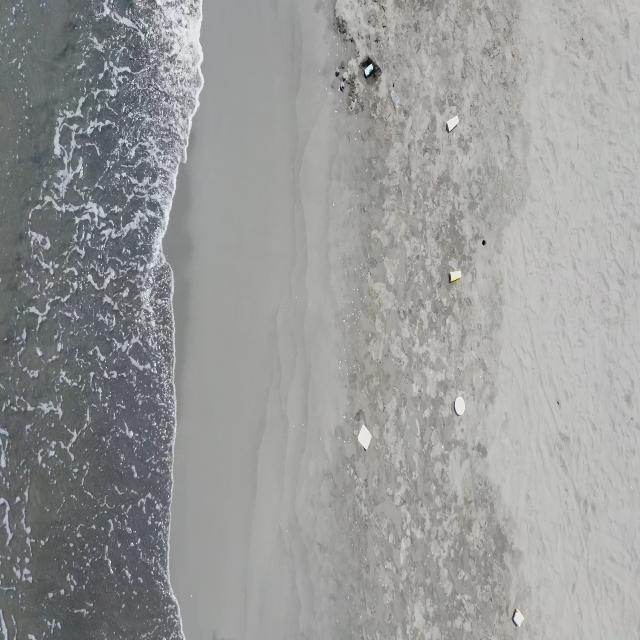take-away-containers: (358, 423, 372, 451), (454, 395, 466, 418), (513, 607, 525, 627)
takeaway-cup: (447, 114, 459, 134), (449, 269, 462, 284), (392, 90, 401, 109), (364, 63, 374, 78)
